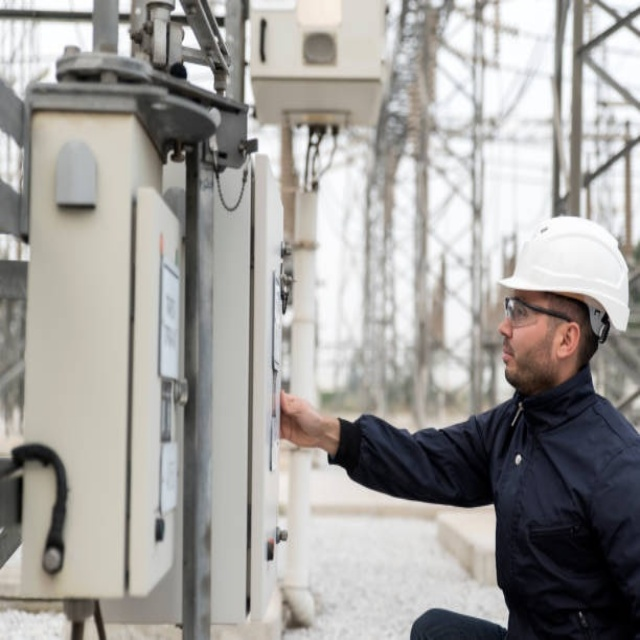Gafas: (504, 293, 575, 333)
Sin_guantes: (282, 384, 326, 450)
Sin_mascara: (498, 337, 535, 381)
